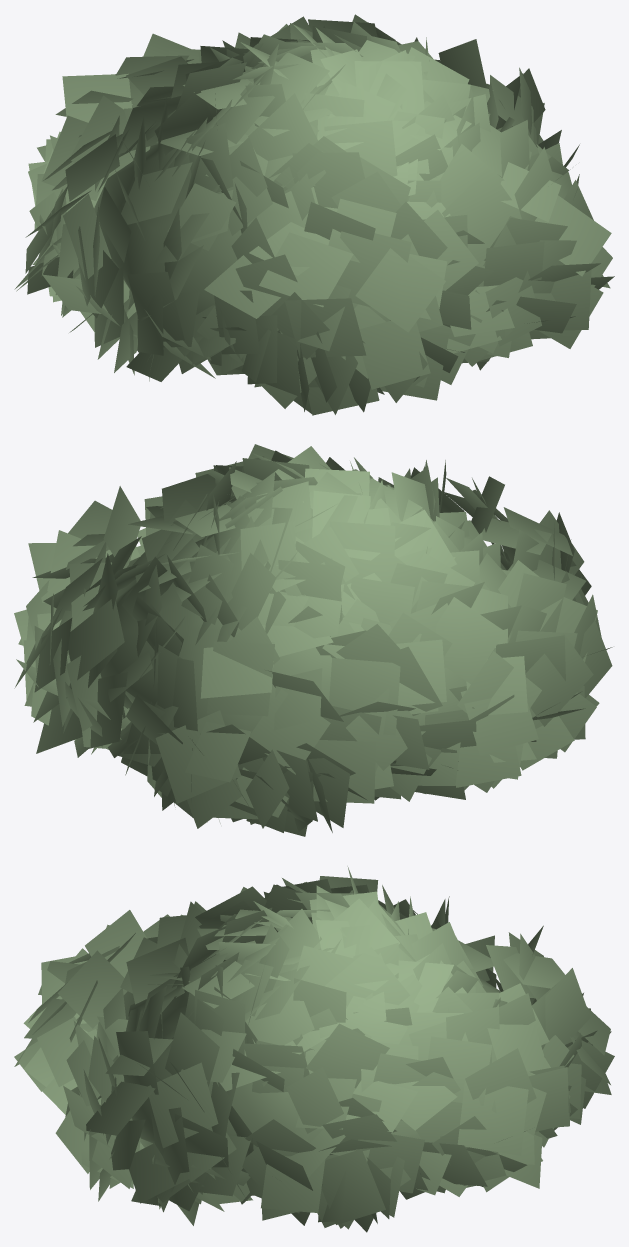
Rendered from rain_tree_leaves.glb.
The picture shows the model from 3 angles, top to bottom: view 1: azimuth 30°, elevation 25°; view 2: azimuth 150°, elevation 25°; view 3: azimuth 270°, elevation 25°; orthographic projection. The views are drawn at different scales.
Visible parts, largest first — view 1: rain_tree_leaves; view 2: rain_tree_leaves; view 3: rain_tree_leaves.
Part boxes in pixels (left/top/right/bottom): rain_tree_leaves: left=14, top=14, right=614, bottom=415; rain_tree_leaves: left=14, top=444, right=612, bottom=836; rain_tree_leaves: left=14, top=866, right=614, bottom=1232.
Size of the model in its own units: 2.2 by 1.14 by 2.33.
